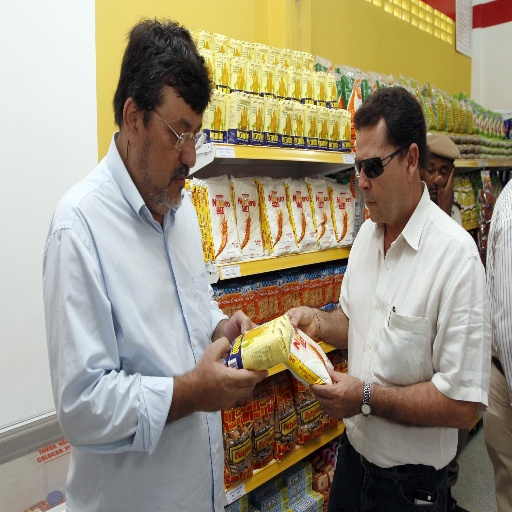hand: (173, 334, 249, 426), (308, 362, 366, 423), (219, 309, 258, 362), (282, 303, 318, 340), (436, 162, 456, 215)
